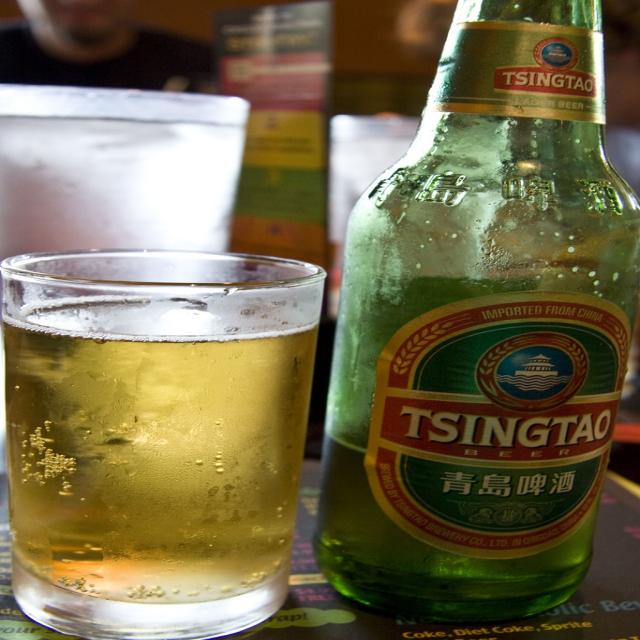tsingtao: (363, 294, 636, 561), (488, 35, 606, 103)
